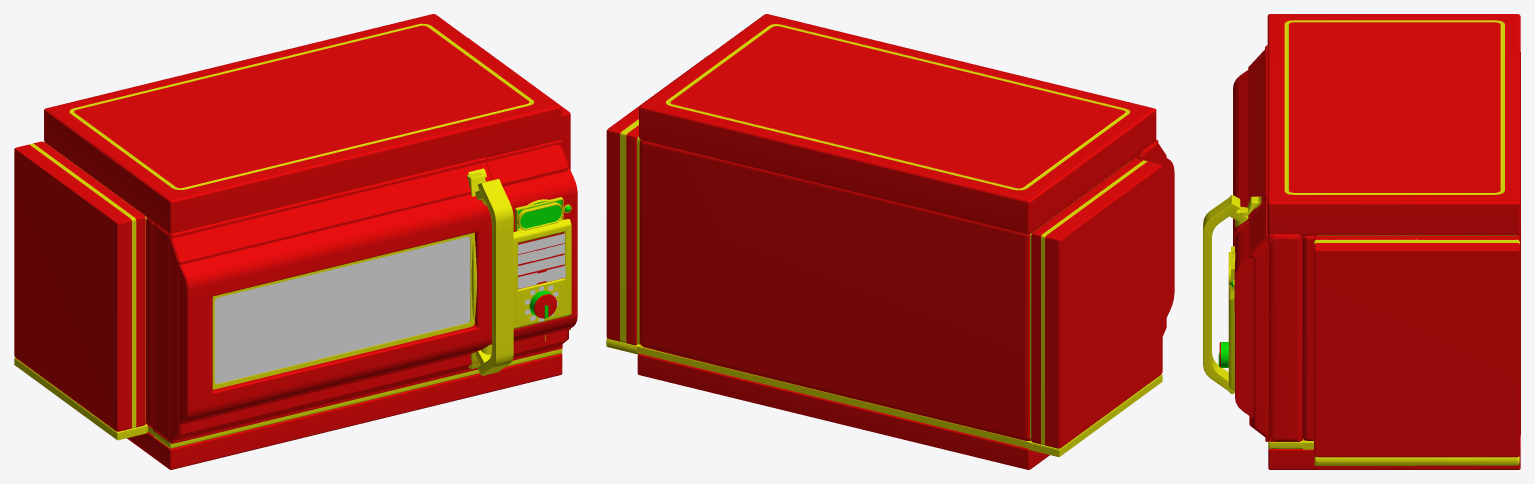
File: microwaves_grp.fbx
The picture shows the model from 3 angles, left to right: view 1: azimuth 30°, elevation 25°; view 2: azimuth 150°, elevation 25°; view 3: azimuth 270°, elevation 25°; orthographic projection.
Parts seen in each view (by area): view 1: microwave_door_a1, microwave_c4, microwave_door_c1, microwave_door_b1, microwave_c3, microwave_b4, microwave_c7, microwave_c8, microwave_door_c5, microwave_c5, microwave_door_a5, microwave_b5 (+14 smaller); view 2: microwave_a2, microwave_c6, microwave_c5, microwave_c2, microwave_b9, microwave_c4, microwave_b10, microwave_c8, microwave_c7, microwave_c1, microwave_b4, microwave_b5 (+6 smaller); view 3: microwave_b10, microwave_c6, microwave_c4, microwave_c7, microwave_c10, microwave_c8, microwave_c5, microwave_b5, microwave_b2, microwave_b1, microwave_door_b1, microwave_door_c5 (+10 smaller).
Boxes of the visible parts, <box> form: microwave_door_a1: <box>171,158,508,420</box>; microwave_c4: <box>47,15,545,199</box>; microwave_door_c1: <box>154,160,507,442</box>; microwave_door_b1: <box>171,157,513,424</box>; microwave_c3: <box>172,106,562,469</box>; microwave_b4: <box>14,141,562,439</box>; microwave_c7: <box>49,14,541,196</box>; microwave_c8: <box>60,15,560,448</box>; microwave_door_c5: <box>170,162,490,441</box>; microwave_c5: <box>56,14,564,349</box>; microwave_door_a5: <box>174,162,492,434</box>; microwave_b5: <box>14,107,570,439</box>; microwave_a2: <box>637,141,1028,448</box>; microwave_c6: <box>649,16,1152,199</box>; microwave_c5: <box>646,14,1153,198</box>; microwave_c2: <box>637,24,1137,469</box>; microwave_b9: <box>636,133,1161,447</box>; microwave_c4: <box>647,14,1148,198</box>; microwave_b10: <box>606,56,1133,456</box>; microwave_c8: <box>645,14,1151,199</box>; microwave_c7: <box>642,16,1148,195</box>; microwave_c1: <box>665,24,1156,469</box>; microwave_b4: <box>611,119,1162,456</box>; microwave_b5: <box>606,107,1162,450</box>; microwave_b10: <box>1302,235,1520,465</box>; microwave_c6: <box>1270,14,1517,201</box>; microwave_c4: <box>1270,14,1517,201</box>; microwave_c7: <box>1270,14,1517,200</box>; microwave_c10: <box>1268,16,1518,469</box>; microwave_c8: <box>1268,14,1517,441</box>; microwave_c5: <box>1251,14,1517,247</box>; microwave_b5: <box>1249,235,1519,464</box>; microwave_b2: <box>1270,234,1494,465</box>; microwave_b1: <box>1218,224,1516,460</box>; microwave_door_b1: <box>1203,45,1267,393</box>; microwave_door_c5: <box>1248,50,1264,203</box>.
Bounding box in the file's own units: 70.03 × 39.7 × 42.76.
